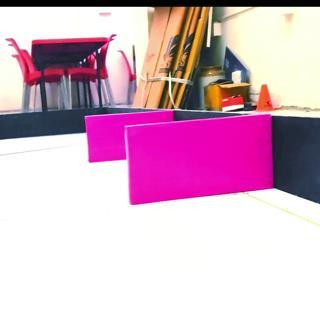xparking: (127, 123, 272, 202), (87, 116, 123, 160)
